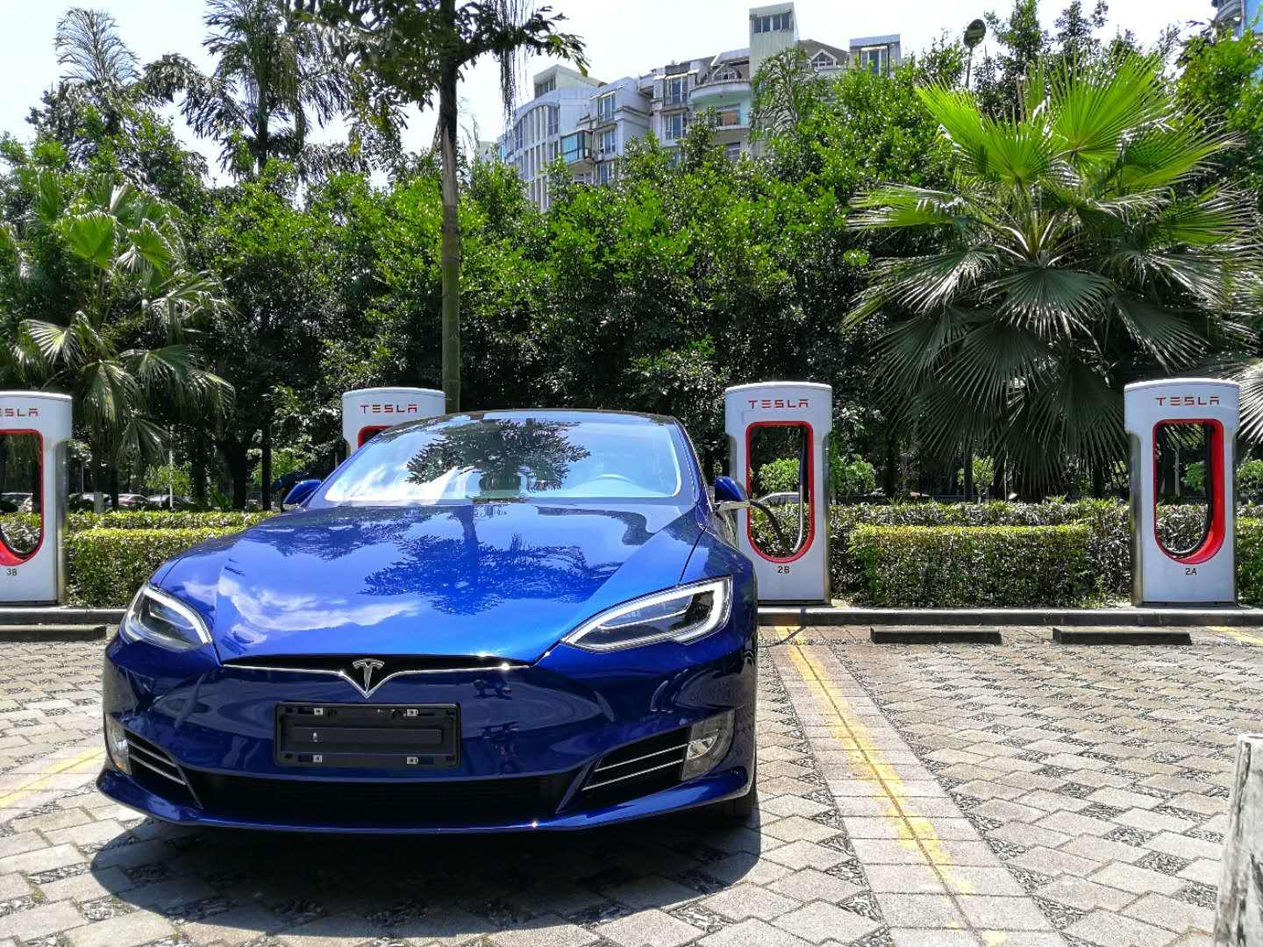Tesla: (351, 657, 384, 694)
